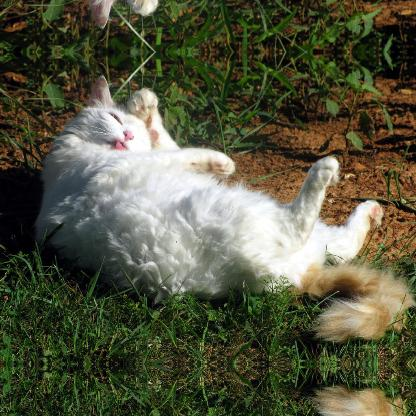Cat: (35, 73, 414, 339)
